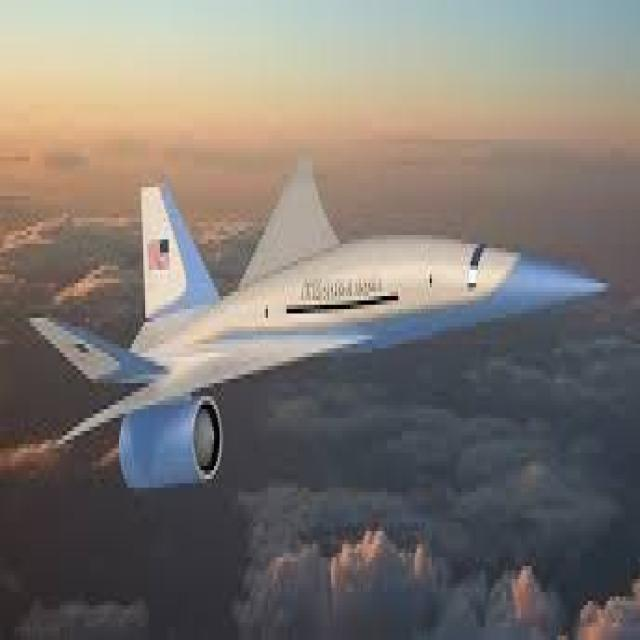jet: (24, 126, 640, 540)
